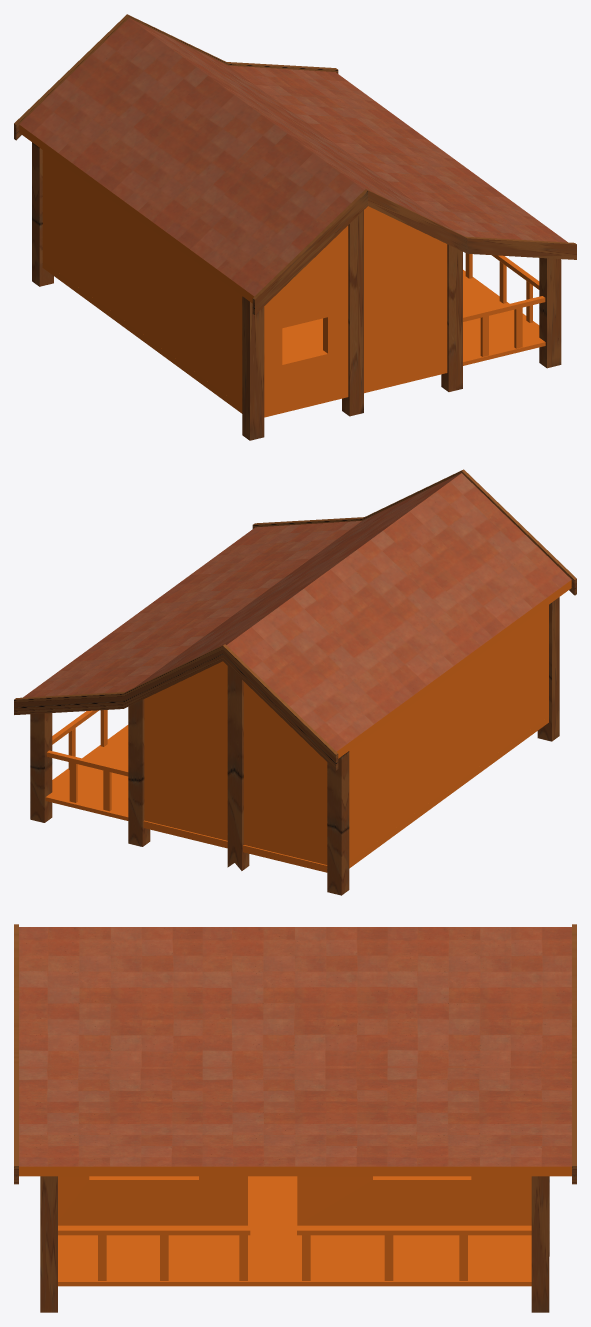
The model's file is Cabin_4890b6e6.glb.
3 views of the same model, one above another, from view 1: azimuth 30°, elevation 25°; view 2: azimuth 150°, elevation 25°; view 3: azimuth 270°, elevation 25° (orthographic). The views are drawn at different scales.
Parts seen in each view (by area): view 1: unnamed (×14); view 2: unnamed (×14); view 3: unnamed (×10).
Boxes of the visible parts, x1,y1,x2,y2 form: unnamed (×14): [14, 14, 576, 440]; unnamed (×14): [14, 469, 576, 895]; unnamed (×10): [14, 924, 576, 1312].
Size of the model in its own units: 9.11 by 6.29 by 11.81.
3 materials, 2 textured.
